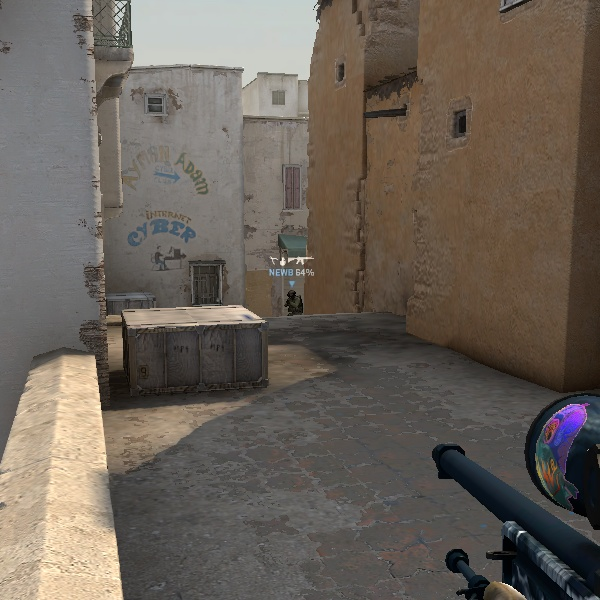ct_body: (277, 285, 306, 316)
ct_head: (286, 288, 299, 302)
